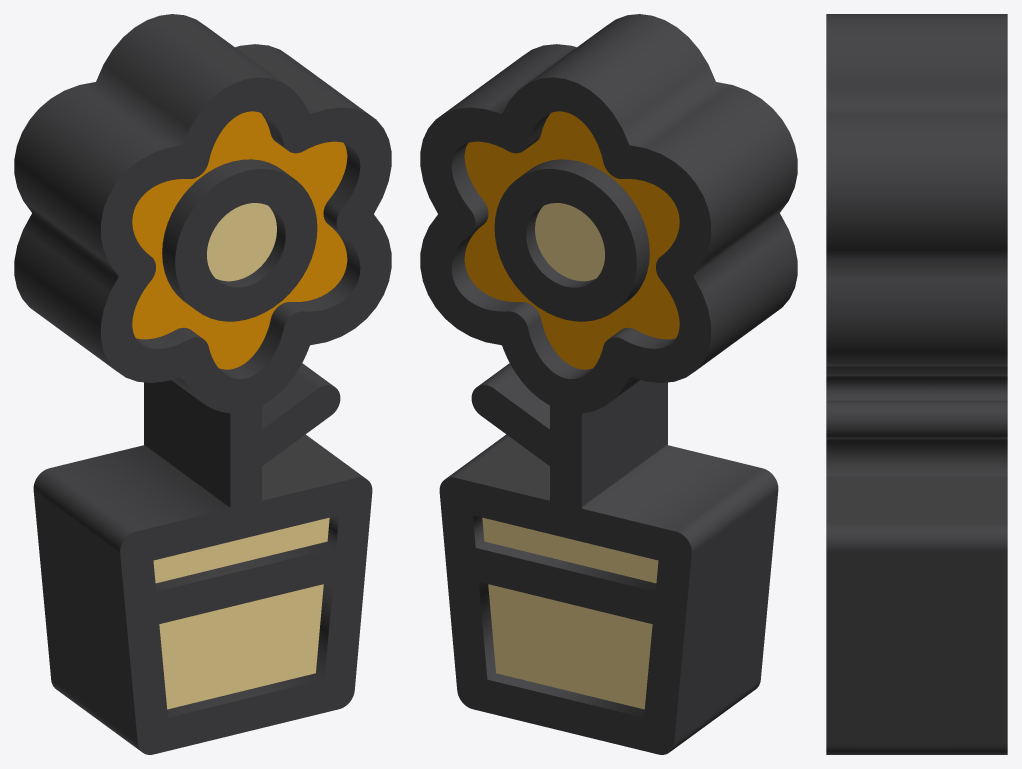
Rendered from Flower.fbx.
The picture shows the model from 3 angles, left to right: view 1: azimuth 30°, elevation 25°; view 2: azimuth 150°, elevation 25°; view 3: azimuth 270°, elevation 25°; orthographic projection. The views are drawn at different scales.
Visible parts, largest first — view 1: Curve.003, Curve, Curve.001, Curve.004, Curve.002; view 2: Curve.003, Curve, Curve.001, Curve.004, Curve.002; view 3: Curve.003.
Boxes of the visible parts, x1,y1,x2,y2 form: Curve.003: (14,14,391,754); Curve: (153,517,329,709); Curve.001: (132,111,347,369); Curve.004: (162,159,317,321); Curve.002: (207,203,276,281); Curve.003: (420,14,797,754); Curve: (482,517,658,709); Curve.001: (464,111,679,369); Curve.004: (494,159,649,321); Curve.002: (535,203,604,281); Curve.003: (826,14,1007,754).
Bounding box in the file's own units: 38.79 × 83.21 × 20.
